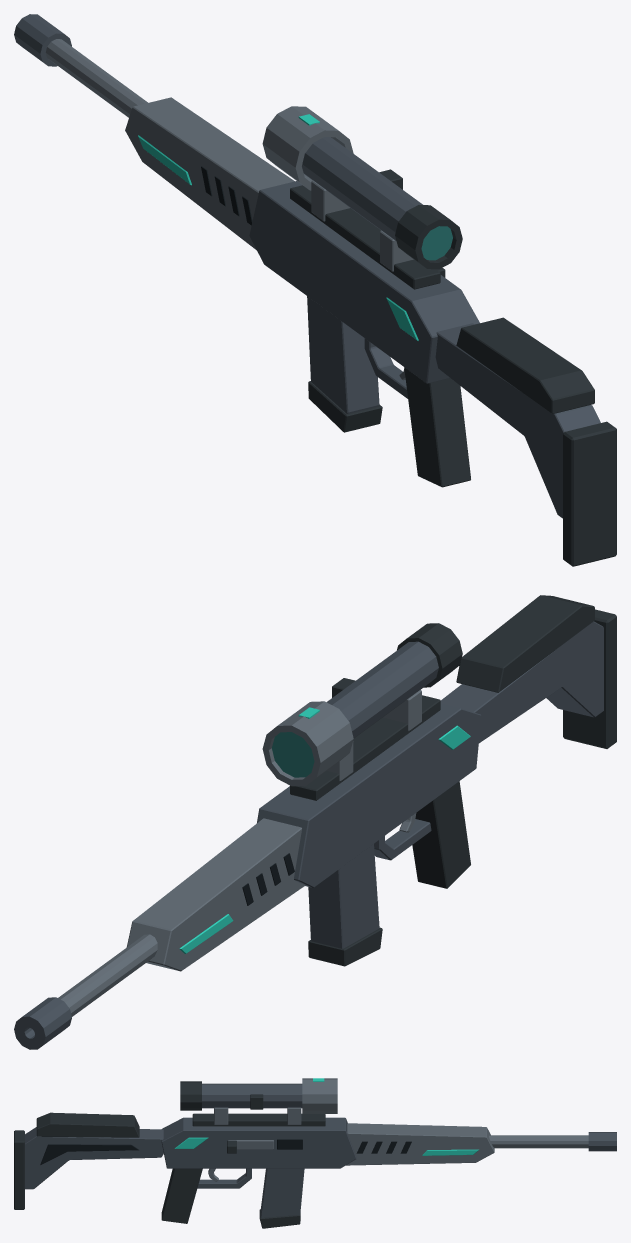
Rendered from Precision_Rifle_01.glb.
The picture shows the model from 3 angles, top to bottom: view 1: azimuth 30°, elevation 25°; view 2: azimuth 150°, elevation 25°; view 3: azimuth 270°, elevation 25°; orthographic projection. The views are drawn at different scales.
Parts seen in each view (by area): view 1: Precision_Rifle_Body, Precision_Rifle_Handguard, Precision_Rifle_Stock, Precision_Rifle_Stock_Pad, Precision_Rifle_Cheek_Rest, Precision_Rifle_Grip, Precision_Rifle_Magazine, Precision_Rifle_Scope, Precision_Rifle_Scope_Objective, Precision_Rifle_Optic_Rail, Precision_Rifle_Barrel, Precision_Rifle_Scope_Eyepiece (+5 smaller); view 2: Precision_Rifle_Body, Precision_Rifle_Handguard, Precision_Rifle_Stock, Precision_Rifle_Cheek_Rest, Precision_Rifle_Magazine, Precision_Rifle_Scope, Precision_Rifle_Grip, Precision_Rifle_Scope_Objective, Precision_Rifle_Stock_Pad, Precision_Rifle_Optic_Rail, Precision_Rifle_Barrel, Precision_Rifle_Muzzle (+5 smaller); view 3: Precision_Rifle_Body, Precision_Rifle_Handguard, Precision_Rifle_Stock, Precision_Rifle_Scope, Precision_Rifle_Cheek_Rest, Precision_Rifle_Magazine, Precision_Rifle_Grip, Precision_Rifle_Optic_Rail, Precision_Rifle_Barrel, Precision_Rifle_Scope_Objective, Precision_Rifle_Stock_Pad, Precision_Rifle_Stock_Inlay (+10 smaller).
Part boxes in pixels (x1=…): Precision_Rifle_Body: x1=249, y1=181, x2=479, y2=383; Precision_Rifle_Handguard: x1=125, y1=97, x2=294, y2=250; Precision_Rifle_Stock: x1=435, y1=323, x2=600, y2=518; Precision_Rifle_Stock_Pad: x1=563, y1=421, x2=616, y2=566; Precision_Rifle_Cheek_Rest: x1=456, y1=317, x2=594, y2=413; Precision_Rifle_Grip: x1=404, y1=367, x2=470, y2=487; Precision_Rifle_Magazine: x1=307, y1=296, x2=379, y2=413; Precision_Rifle_Scope: x1=302, y1=137, x2=422, y2=241; Precision_Rifle_Scope_Objective: x1=262, y1=106, x2=353, y2=190; Precision_Rifle_Optic_Rail: x1=290, y1=185, x2=440, y2=289; Precision_Rifle_Barrel: x1=45, y1=39, x2=147, y2=117; Precision_Rifle_Scope_Eyepiece: x1=395, y1=205, x2=462, y2=269; Precision_Rifle_Body: x1=257, y1=703, x2=481, y2=887; Precision_Rifle_Handguard: x1=126, y1=818, x2=305, y2=971; Precision_Rifle_Stock: x1=440, y1=621, x2=603, y2=743; Precision_Rifle_Cheek_Rest: x1=456, y1=595, x2=594, y2=692; Precision_Rifle_Magazine: x1=308, y1=844, x2=379, y2=948; Precision_Rifle_Scope: x1=327, y1=641, x2=438, y2=738; Precision_Rifle_Grip: x1=412, y1=781, x2=470, y2=888; Precision_Rifle_Scope_Objective: x1=262, y1=701, x2=353, y2=786; Precision_Rifle_Stock_Pad: x1=563, y1=609, x2=616, y2=748; Precision_Rifle_Optic_Rail: x1=290, y1=695, x2=440, y2=800; Precision_Rifle_Barrel: x1=58, y1=934, x2=157, y2=1016; Precision_Rifle_Muzzle: x1=14, y1=997, x2=71, y2=1049; Precision_Rifle_Body: x1=161, y1=1117, x2=356, y2=1168; Precision_Rifle_Handguard: x1=346, y1=1123, x2=494, y2=1165; Precision_Rifle_Stock: x1=25, y1=1127, x2=163, y2=1189; Precision_Rifle_Scope: x1=202, y1=1083, x2=302, y2=1108; Precision_Rifle_Cheek_Rest: x1=36, y1=1112, x2=139, y2=1137; Precision_Rifle_Magazine: x1=260, y1=1168, x2=304, y2=1217; Precision_Rifle_Grip: x1=161, y1=1168, x2=202, y2=1223; Precision_Rifle_Optic_Rail: x1=192, y1=1113, x2=325, y2=1126; Precision_Rifle_Barrel: x1=489, y1=1135, x2=588, y2=1148; Precision_Rifle_Scope_Objective: x1=302, y1=1078, x2=337, y2=1113; Precision_Rifle_Stock_Pad: x1=14, y1=1130, x2=24, y2=1209; Precision_Rifle_Stock_Inlay: x1=40, y1=1144, x2=138, y2=1164.
Size of the model in its own units: 0.0905 by 0.2939 by 1.11.
